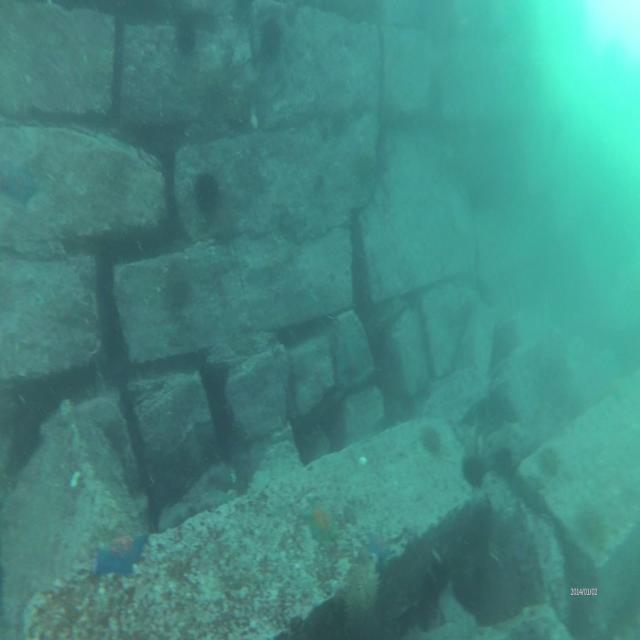echinus: (193, 172, 221, 216), (582, 507, 607, 548), (258, 20, 282, 59), (461, 451, 485, 488), (174, 20, 198, 56), (420, 422, 442, 456), (541, 445, 562, 480)
starfish: (94, 527, 147, 580), (301, 497, 342, 542), (366, 529, 391, 563)
